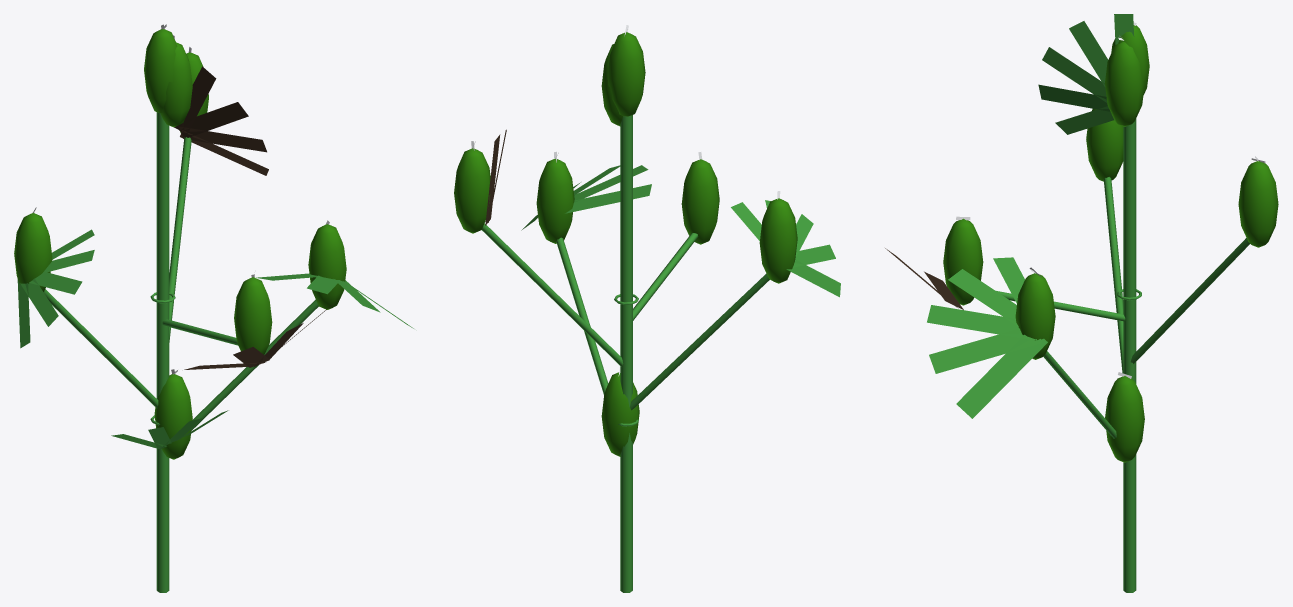
File: plant-stage--late-flower.glb
3 views of the same model, side by side, from view 1: azimuth 30°, elevation 25°; view 2: azimuth 150°, elevation 25°; view 3: azimuth 270°, elevation 25° (orthographic).
Visible parts, largest first — view 1: plant_buds, plant_stem, plant_leaves, plant_leaves_fade; view 2: plant_buds, plant_stem, plant_leaves, plant_leaves_fade; view 3: plant_buds, plant_leaves, plant_stem, plant_leaves_fade.
Boxes of the visible parts, x1,y1,x2,y2 form: plant_buds: (14, 29, 346, 459); plant_stem: (44, 112, 318, 592); plant_leaves: (17, 229, 413, 448); plant_leaves_fade: (174, 66, 336, 369); plant_buds: (454, 32, 797, 456); plant_stem: (482, 115, 769, 592); plant_leaves: (521, 165, 840, 297); plant_leaves_fade: (485, 129, 506, 225); plant_buds: (943, 25, 1278, 462); plant_leaves: (927, 14, 1134, 418); plant_stem: (996, 118, 1249, 592); plant_leaves_fade: (885, 248, 963, 309).
Size of the model in its own units: 0.5286 by 0.7983 by 0.5105.
